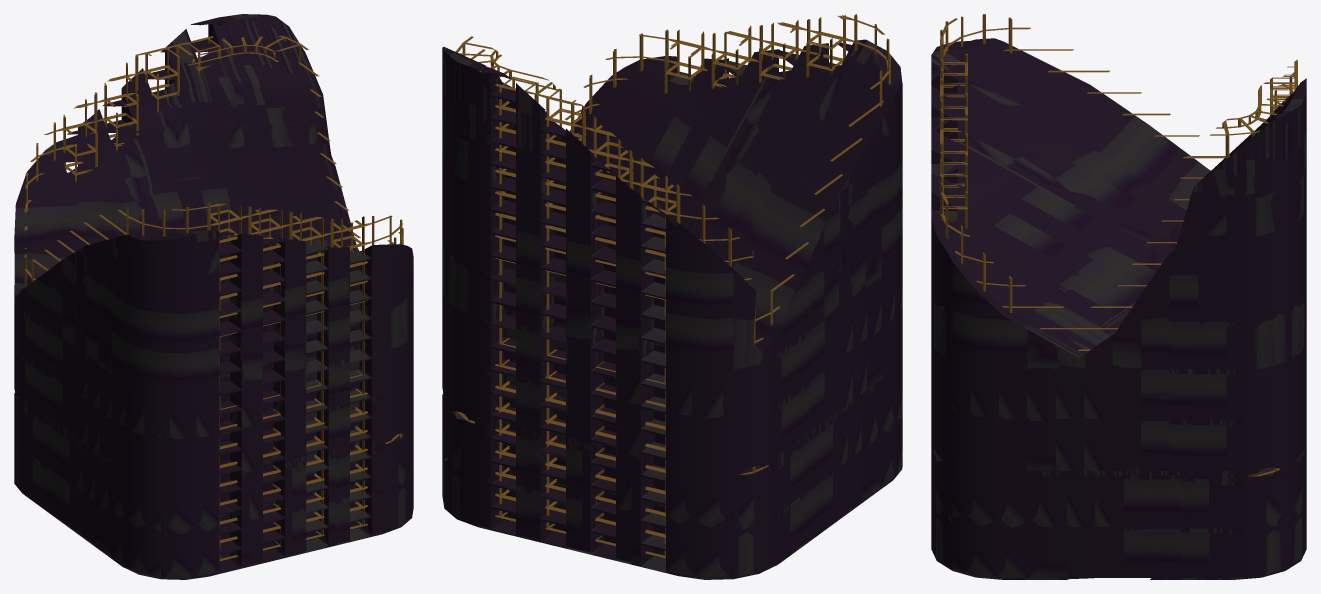
File: building2.fbx
3 views of the same model, side by side, from view 1: azimuth 30°, elevation 25°; view 2: azimuth 150°, elevation 25°; view 3: azimuth 270°, elevation 25° (orthographic). The views are drawn at different scales.
Visible parts, largest first — view 1: Cube.008; view 2: Cube.008; view 3: Cube.008.
Part boxes in pixels (bbox=[...]): Cube.008: bbox=[14, 14, 413, 579]; Cube.008: bbox=[442, 14, 902, 579]; Cube.008: bbox=[931, 14, 1306, 579].
Size of the model in its own units: 2986 by 4000 by 2986.
